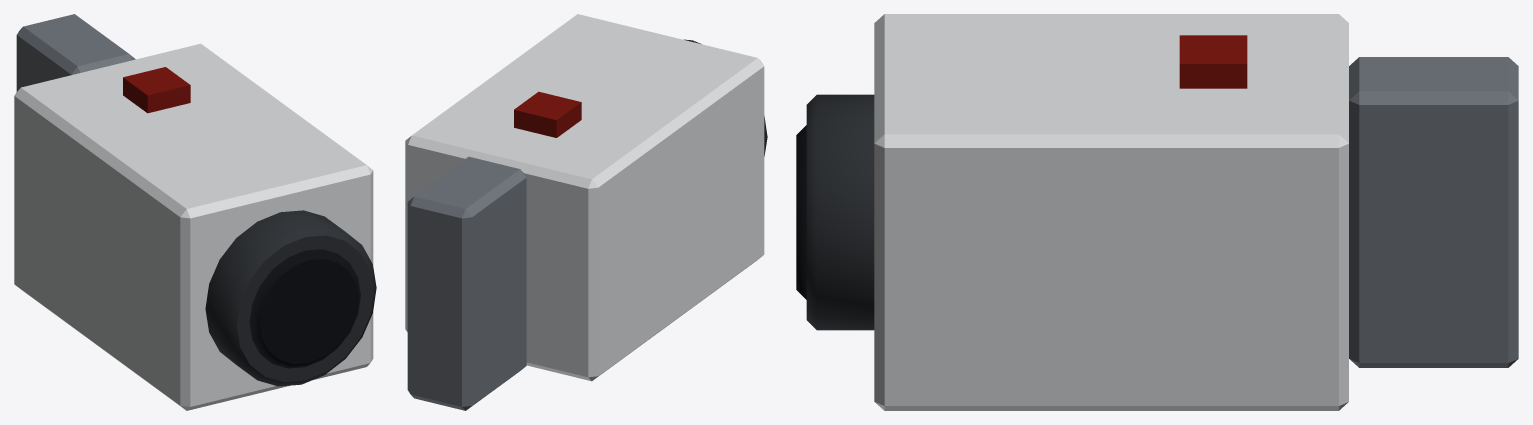
File: vision_sensor.glb
3 views of the same model, side by side, from view 1: azimuth 30°, elevation 25°; view 2: azimuth 150°, elevation 25°; view 3: azimuth 270°, elevation 25° (orthographic). The views are drawn at different scales.
Parts seen in each view (by area): view 1: Sensor_Static, SensorLed; view 2: Sensor_Static, SensorLed; view 3: Sensor_Static, SensorLed.
Boxes of the visible parts, x1=… form: Sensor_Static: x1=14, y1=14, x2=376, y2=410; SensorLed: x1=123, y1=67, x2=190, y2=113; Sensor_Static: x1=405, y1=14, x2=767, y2=410; SensorLed: x1=514, y1=91, x2=581, y2=137; Sensor_Static: x1=796, y1=14, x2=1518, y2=410; SensorLed: x1=1179, y1=35, x2=1247, y2=88.
Size of the model in its own units: 0.09 by 0.098 by 0.213.
